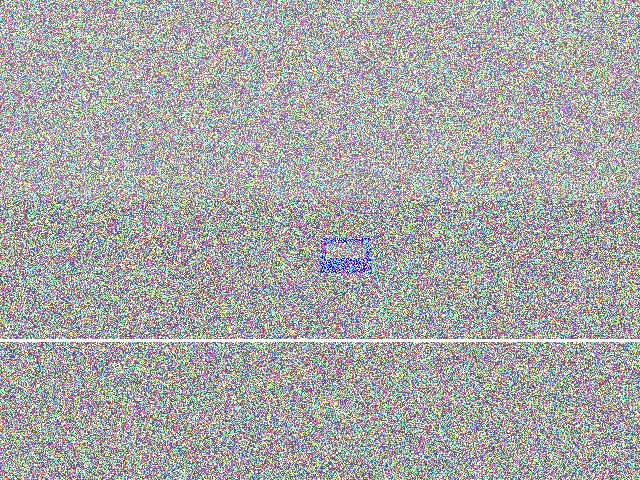car: (89, 294, 243, 426), (230, 263, 372, 338)
truck: (230, 254, 330, 336)
